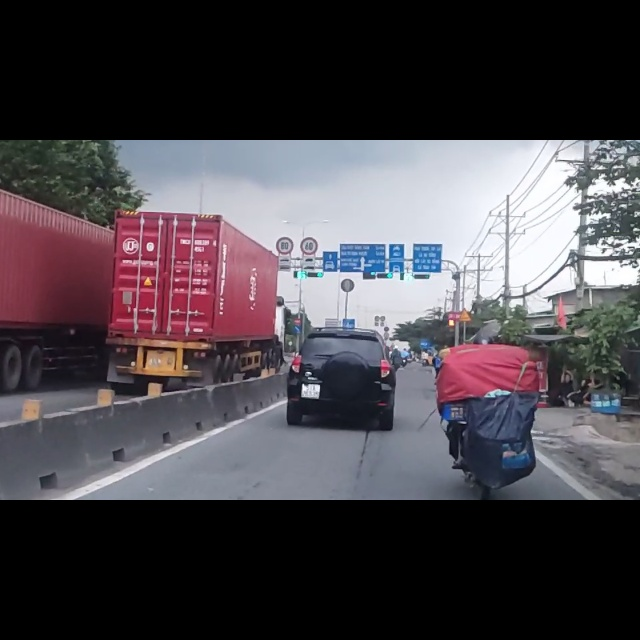bien_nguy_hiem: (300, 172, 319, 206), (276, 171, 295, 205), (458, 299, 471, 322), (293, 329, 301, 343), (294, 315, 301, 329)
